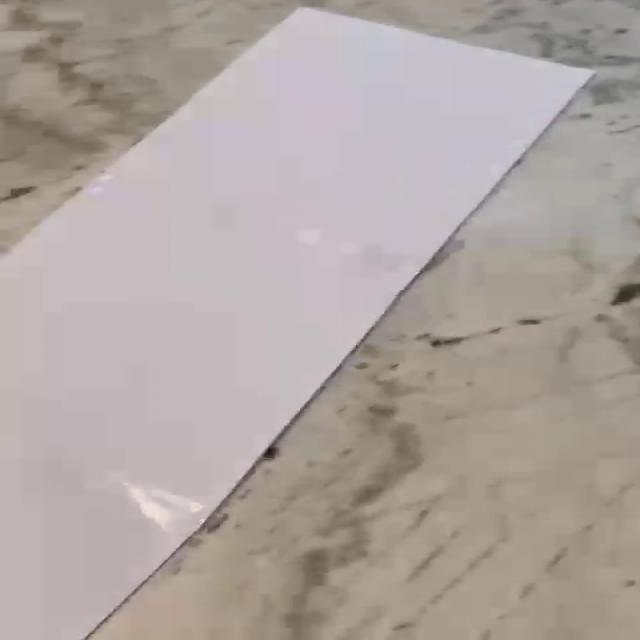road: (1, 9, 593, 640)
